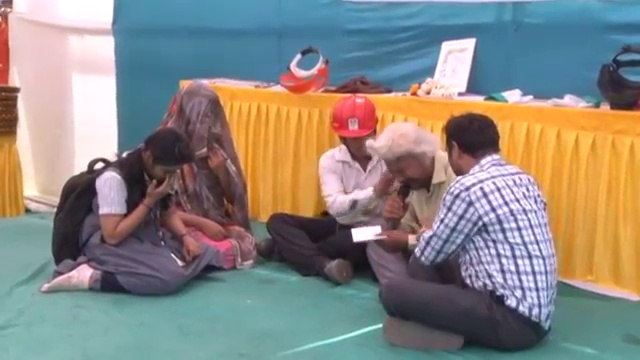helmet: (327, 95, 382, 141)
helmet_off: (437, 114, 511, 184), (168, 82, 226, 157), (378, 126, 436, 199), (141, 123, 193, 185)
helmet_on: (324, 95, 378, 164)
person: (381, 113, 558, 354), (37, 111, 226, 294), (264, 95, 404, 282), (151, 78, 256, 265), (367, 123, 460, 287)
